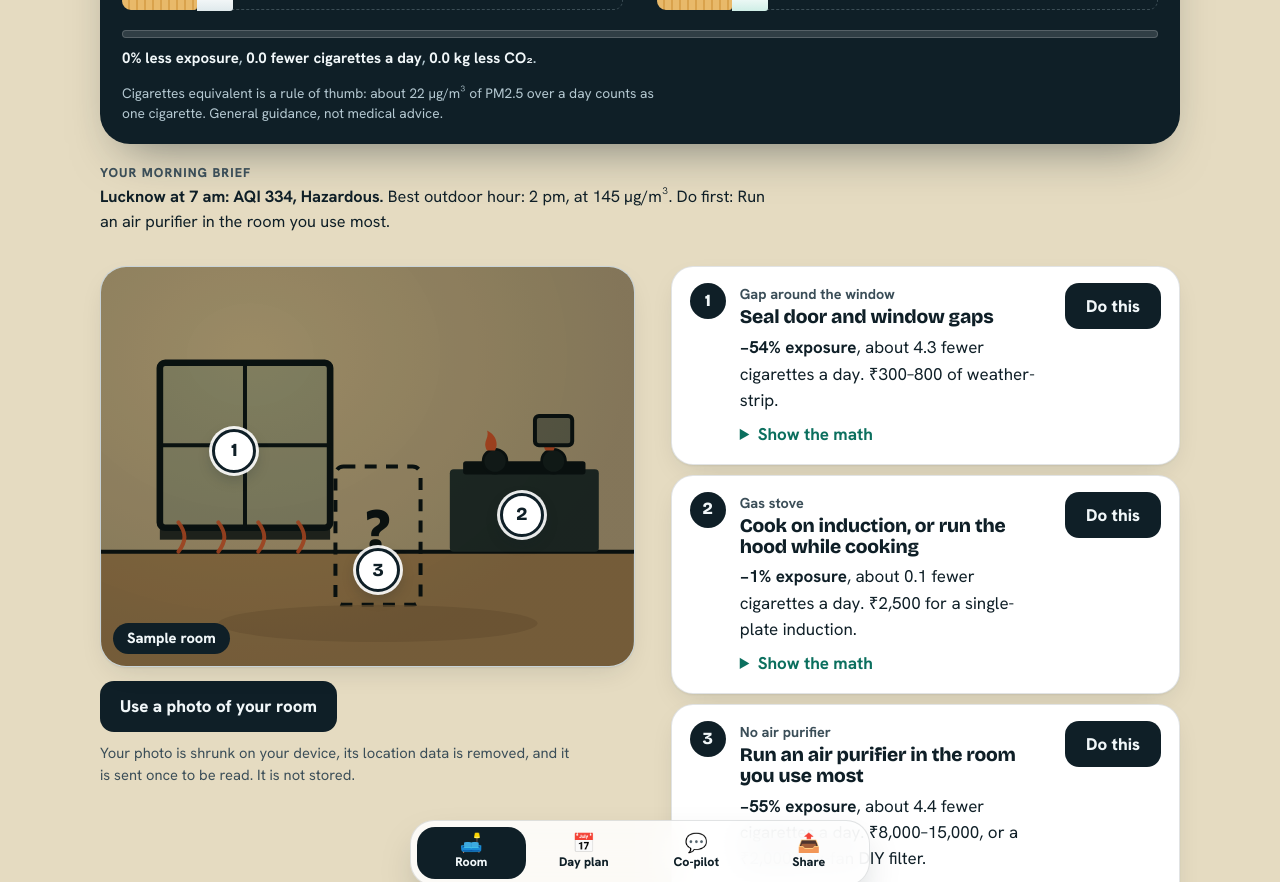
Scenario: AirWise home › pressing a hotspot adds the fix, updates the row, lowers the dial and clears the haze
(page scrolled)
Click the button named "Fix 1:" at (234, 451), box 212,429 -> 256,473
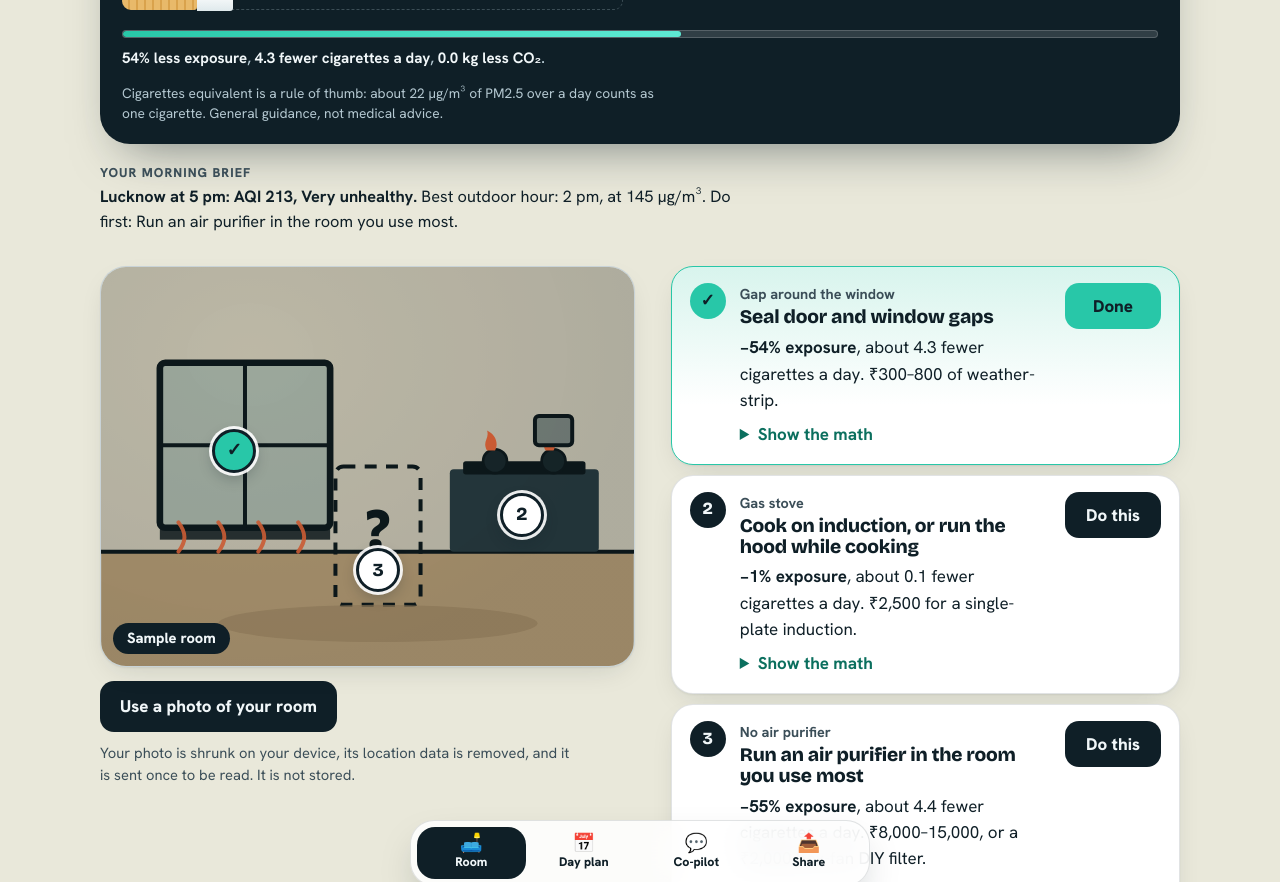
Expected: the number of buttons "Done" is 1, 1065,283 -> 1161,329
Now the button named "Fix 1:" is pressed, box 212,429 -> 256,473
